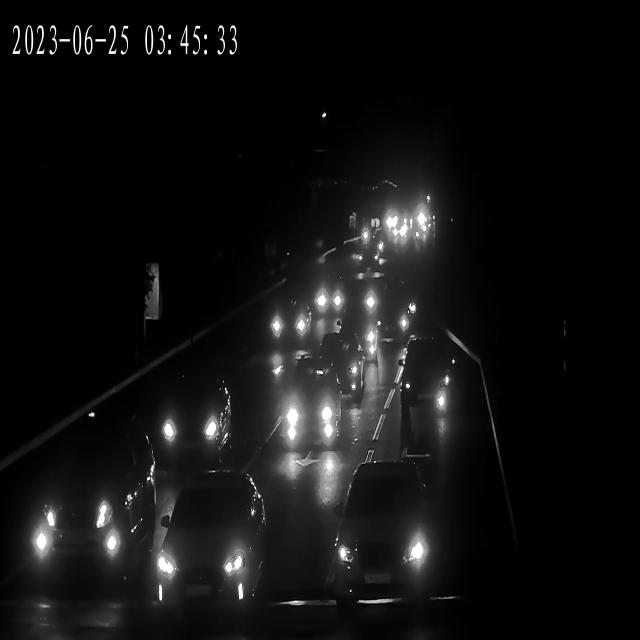Car: (15, 429, 156, 573), (152, 482, 268, 620), (326, 468, 444, 598), (152, 378, 235, 464), (275, 371, 347, 451), (396, 333, 456, 415), (310, 339, 368, 404), (331, 314, 382, 367), (266, 302, 320, 349), (362, 283, 409, 329), (315, 279, 352, 319), (357, 238, 387, 274), (379, 208, 408, 240), (416, 212, 434, 238)
